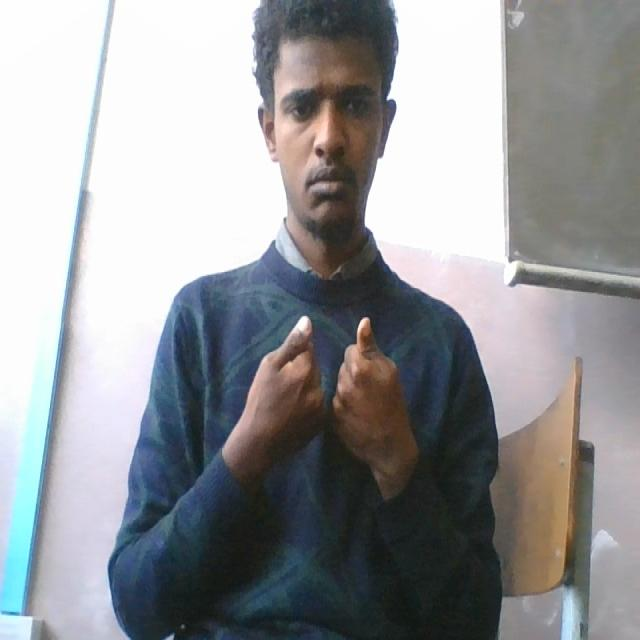dabo: (243, 303, 408, 472)
